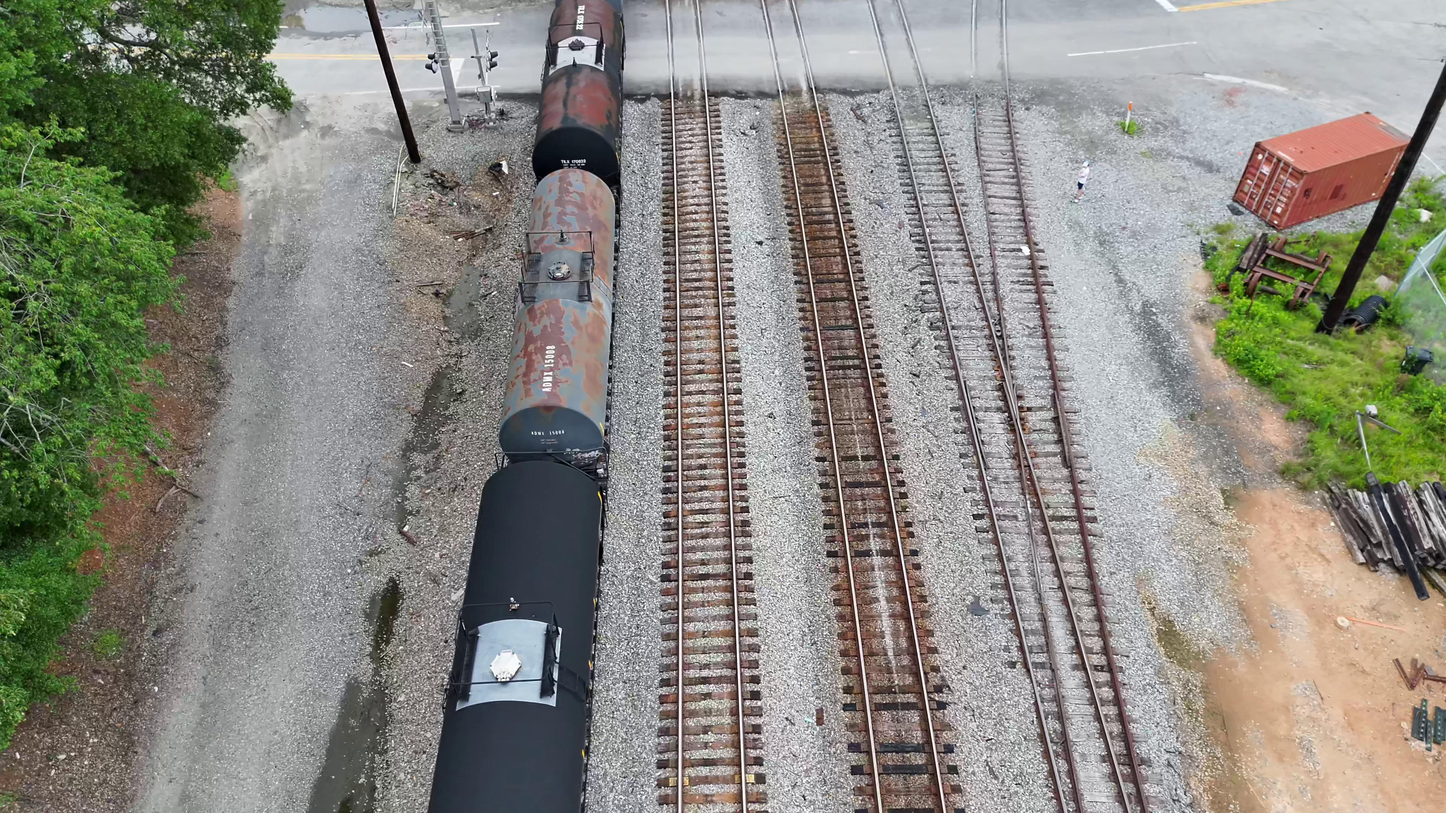human: (1073, 160, 1090, 204)
